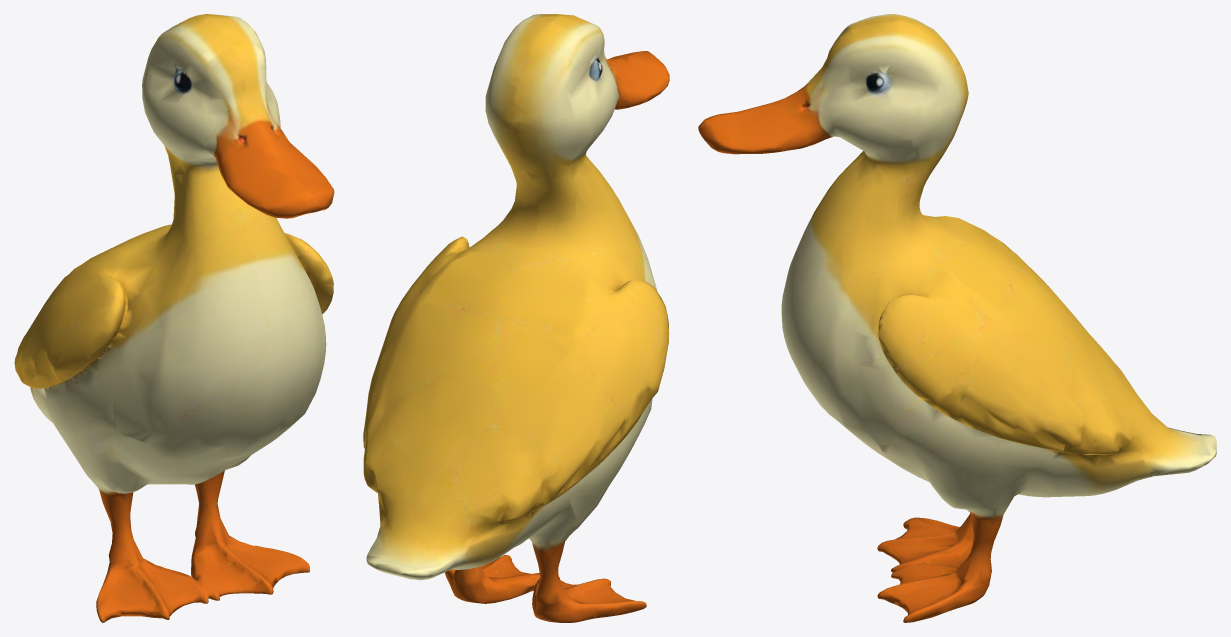
File: duck.glb
3 renders of one model, left to right at view 1: azimuth 30°, elevation 25°; view 2: azimuth 150°, elevation 25°; view 3: azimuth 270°, elevation 25°, orthographic. The views are drawn at different scales.
Size of the model in its own units: 0.9182 by 1.9 by 1.61.
1 material, 1 textured.
